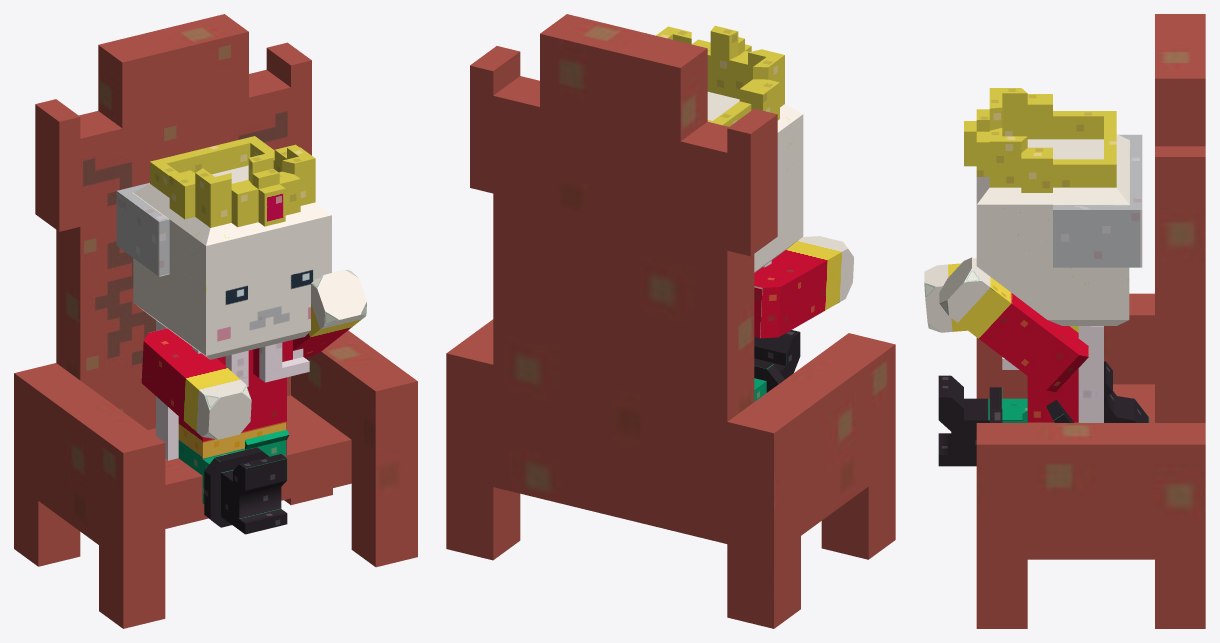
The model's file is KING.FBX.
The picture shows the model from 3 angles, left to right: view 1: azimuth 30°, elevation 25°; view 2: azimuth 150°, elevation 25°; view 3: azimuth 270°, elevation 25°; orthographic projection. The views are drawn at different scales.
Visible parts, largest first — view 1: Box052, Box050, Box011, Box030, Box004, Box008, Object005; view 2: Box052, Box050, Box011, Box030; view 3: Box052, Box050, Box008, Box030, Object005, Box004, Box051, Box011.
Boxes of the visible parts, bbox=[...] form: Box052: bbox=[14, 14, 417, 628]; Box050: bbox=[116, 136, 331, 359]; Box011: bbox=[141, 328, 251, 439]; Box030: bbox=[202, 447, 287, 534]; Box004: bbox=[178, 349, 286, 475]; Box008: bbox=[293, 270, 366, 358]; Object005: bbox=[156, 320, 309, 460]; Box052: bbox=[446, 14, 895, 628]; Box050: bbox=[656, 25, 803, 272]; Box011: bbox=[754, 236, 853, 338]; Box030: bbox=[754, 330, 800, 401]; Box052: bbox=[976, 14, 1205, 628]; Box050: bbox=[964, 88, 1142, 325]; Box008: bbox=[939, 257, 1088, 392]; Box030: bbox=[938, 375, 1027, 466]; Object005: bbox=[1002, 326, 1103, 422]; Box004: bbox=[1027, 326, 1078, 422]; Box051: bbox=[1022, 361, 1149, 422]; Box011: bbox=[924, 263, 967, 332].
Size of the model in its own units: 420 by 660 by 332.
